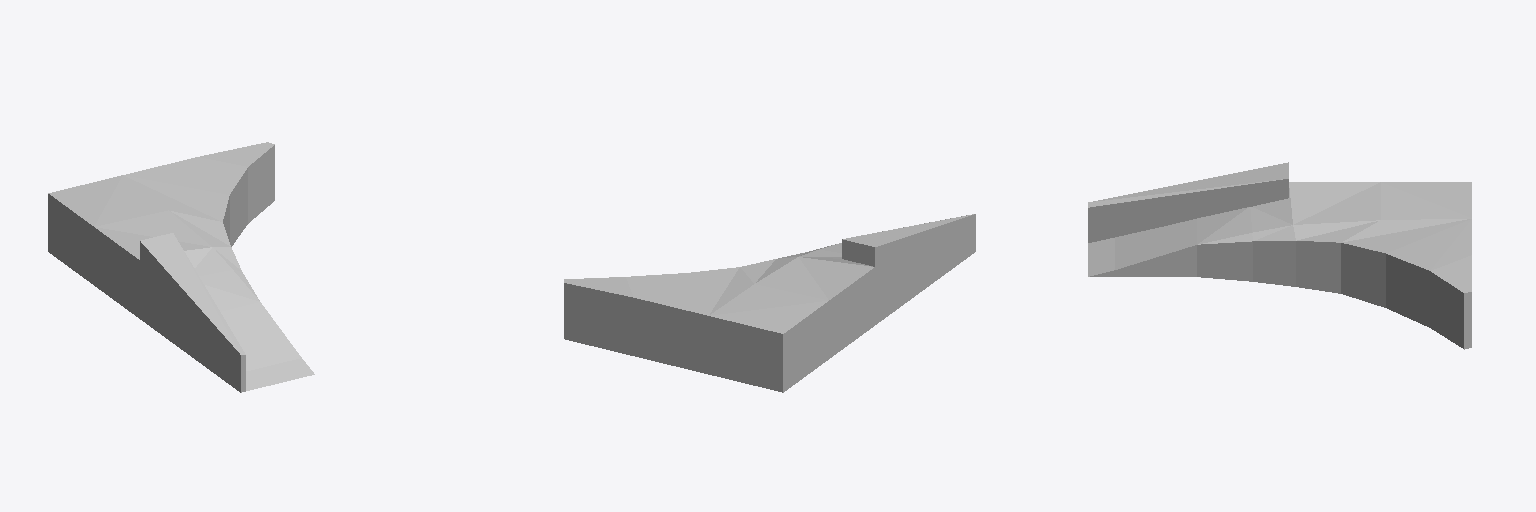
File: multiball_base_collision.obj
The picture shows the model from 3 angles: view 1: azimuth 30°, elevation 25°; view 2: azimuth 150°, elevation 25°; view 3: azimuth 270°, elevation 25°; orthographic projection.
Parts seen in each view (by area): view 1: polySurface8; view 2: polySurface8; view 3: polySurface8.
Boxes of the visible parts, x1=… form: polySurface8: x1=48, y1=142, x2=314, y2=392; polySurface8: x1=564, y1=214, x2=975, y2=392; polySurface8: x1=1088, y1=162, x2=1471, y2=349.
Size of the model in its own units: 2.62 by 0.8789 by 3.91.